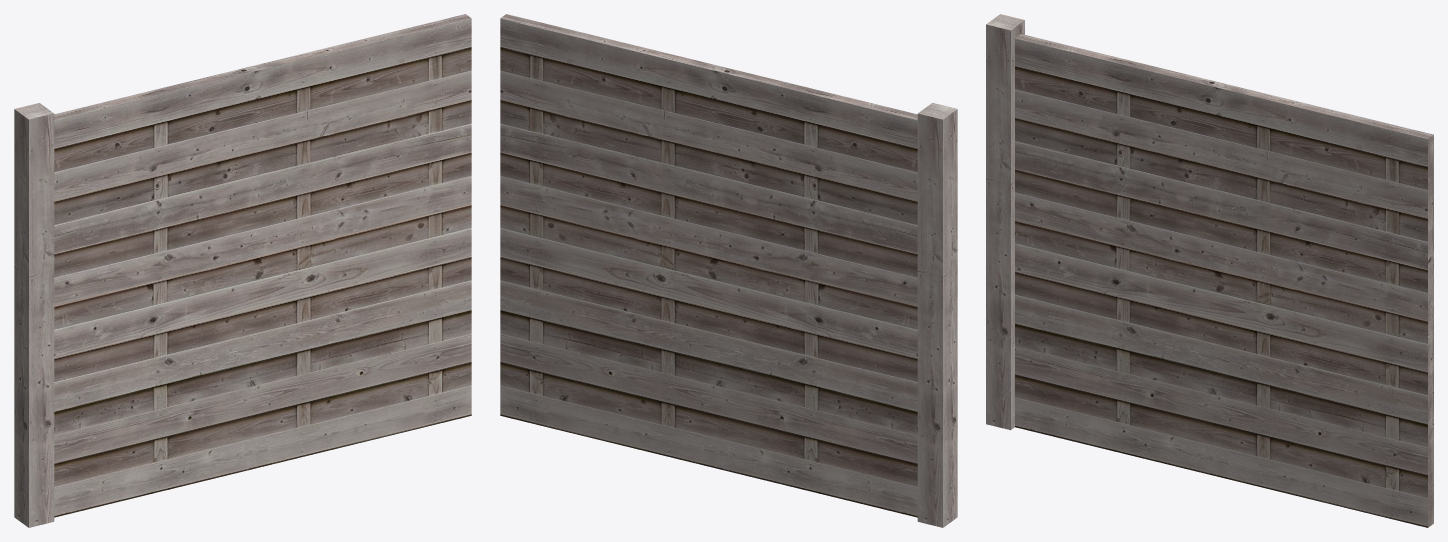
File: wood_fence.fbx
3 views of the same model, side by side, from view 1: azimuth 30°, elevation 25°; view 2: azimuth 150°, elevation 25°; view 3: azimuth 330°, elevation 25° (orthographic). The views are drawn at different scales.
Visible parts, largest first — view 1: mesh; view 2: mesh; view 3: mesh.
Boxes of the visible parts, x1,y1,x2,y2 form: mesh: [14, 14, 471, 527]; mesh: [500, 14, 957, 527]; mesh: [986, 14, 1433, 527].
Size of the model in its own units: 212 by 185 by 12.
